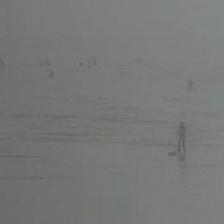surfer: (175, 121, 187, 149), (90, 55, 99, 67), (41, 58, 53, 66), (0, 58, 9, 67), (186, 80, 196, 88), (133, 56, 143, 64), (48, 71, 57, 78), (76, 60, 83, 68)
